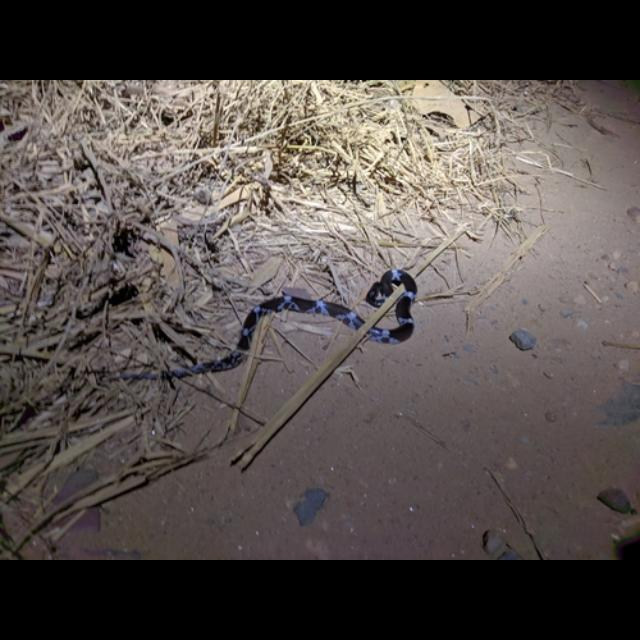snake: (100, 266, 424, 394)
